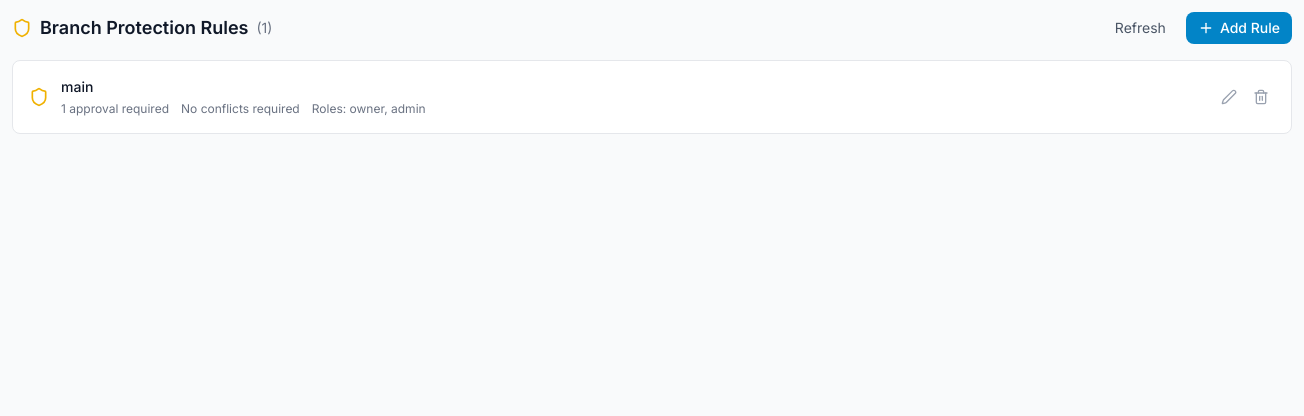
BranchProtectionSettings › cancels edit form when Cancel is clicked
The image size is (1304, 416).
Click the button titled "Edit" at (1229, 97), box 1215,83 -> 1243,111
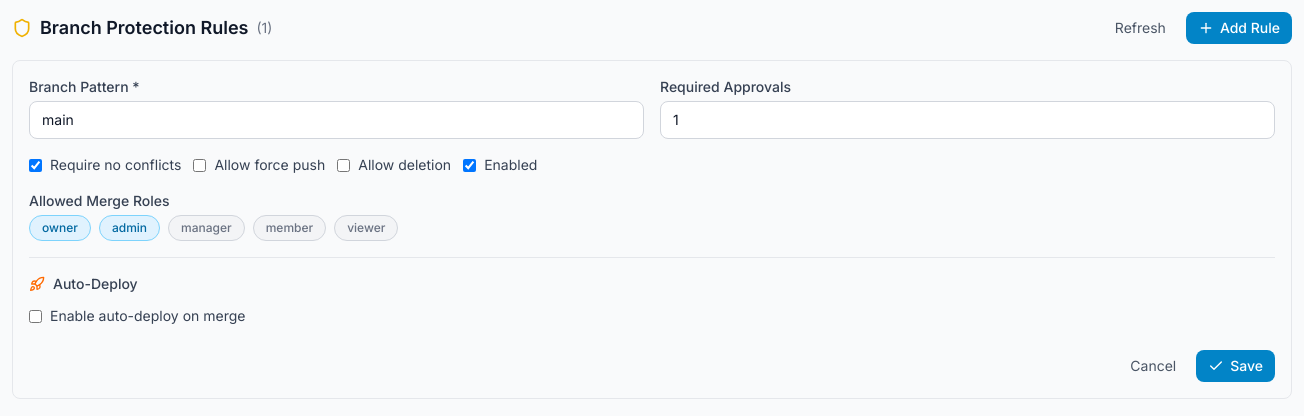
expect the button "Save" is shown: met, box 1196,350 -> 1275,382
Click the button "Cancel" at (1153, 366), box 1118,350 -> 1188,382
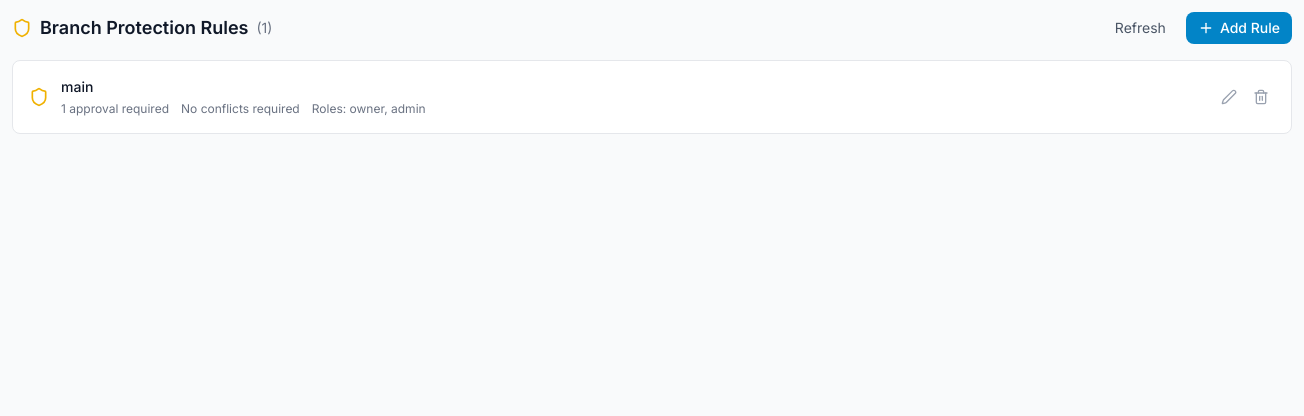
expect the button "Save" is gone: met
